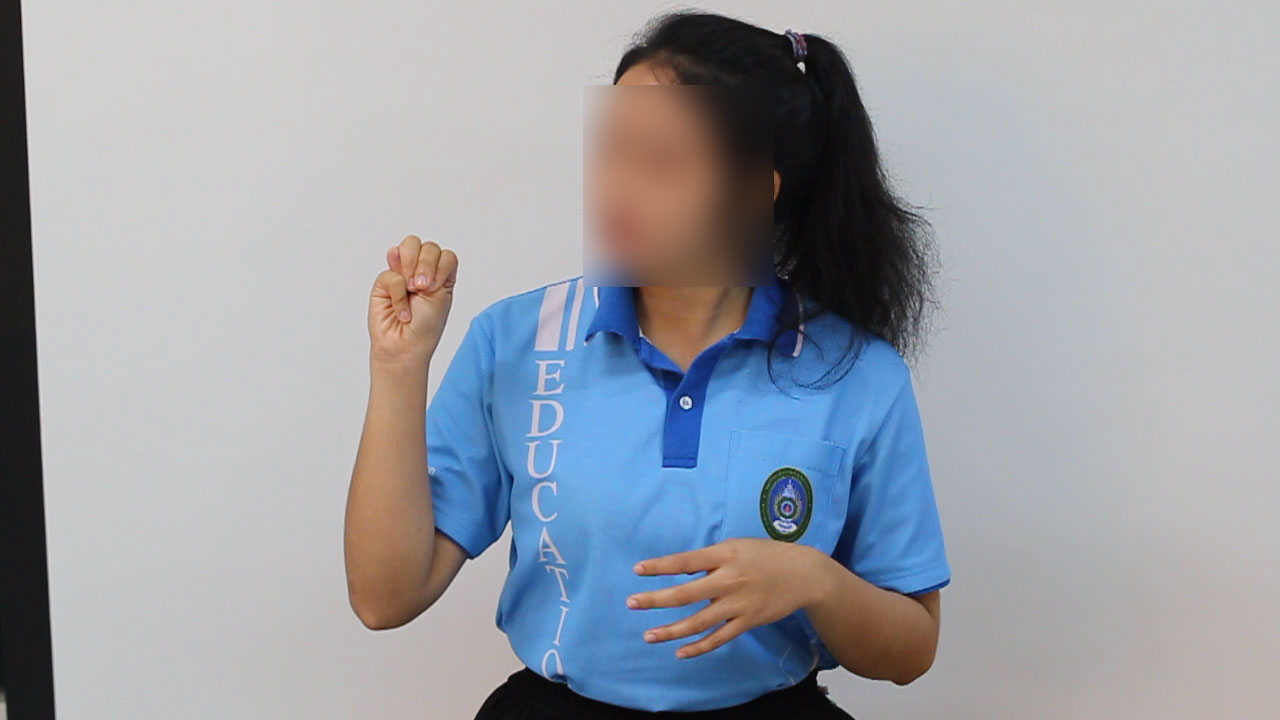mor: (365, 207, 464, 397)
